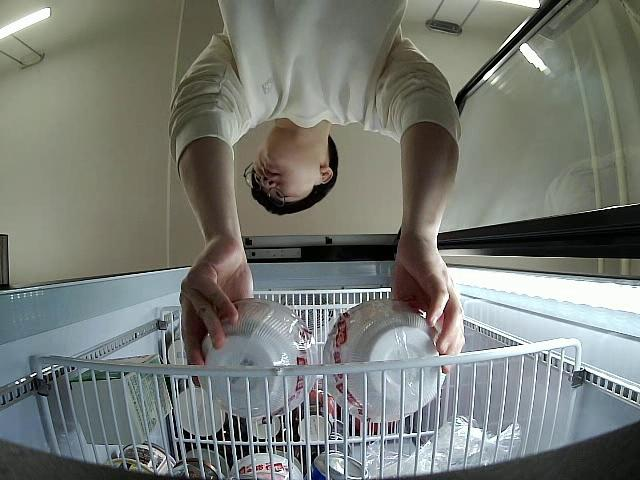00_hand: (180, 236, 254, 380), (389, 241, 464, 374)
09_yukGaeJang: (324, 299, 444, 423), (199, 299, 318, 416)
